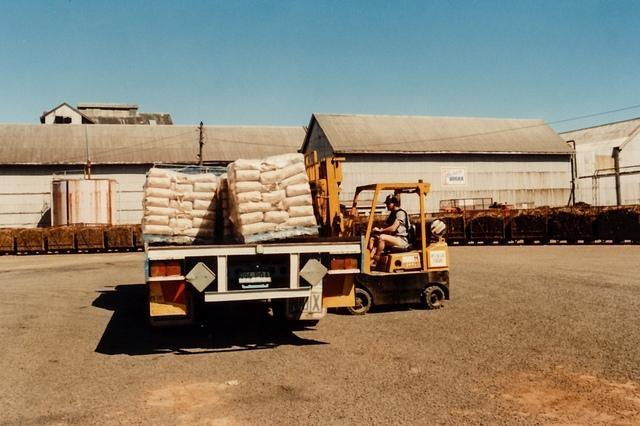truck: (138, 152, 456, 332)
